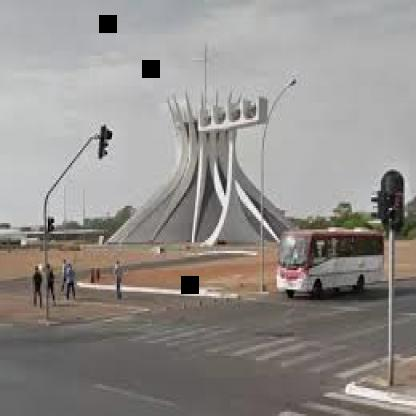car: (273, 216, 389, 309)
